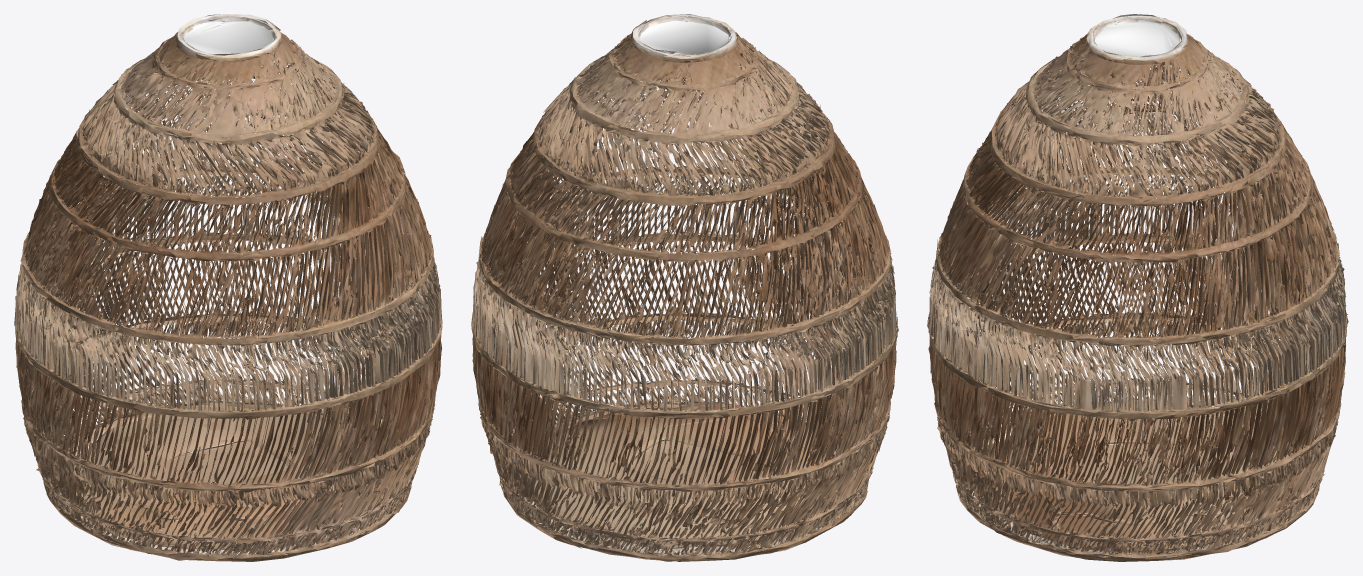
File: rattan_pendant.glb
3 renders of one model, left to right at view 1: azimuth 30°, elevation 25°; view 2: azimuth 150°, elevation 25°; view 3: azimuth 270°, elevation 25°, orthographic.
Visible parts, largest first — view 1: node_0; view 2: node_0; view 3: node_0.
Part boxes in pixels (<box>): node_0: <box>14,14,442,561</box>; node_0: <box>471,14,898,561</box>; node_0: <box>927,14,1348,561</box>.
Bounding box in the file's own units: 0.8327 × 0.9777 × 0.8267.
1 material, 1 textured.
